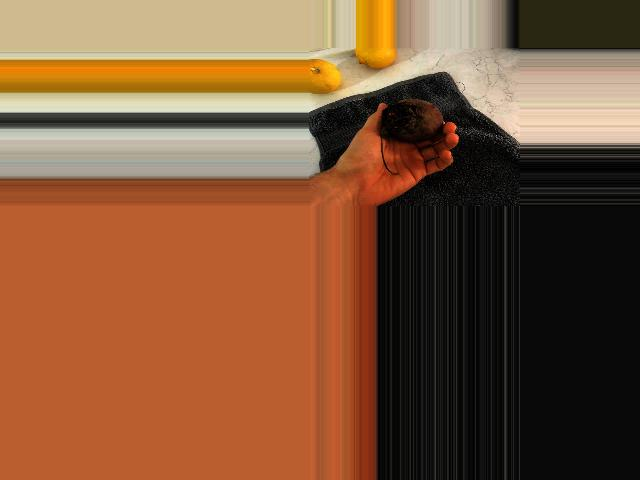beet: (383, 98, 444, 174)
